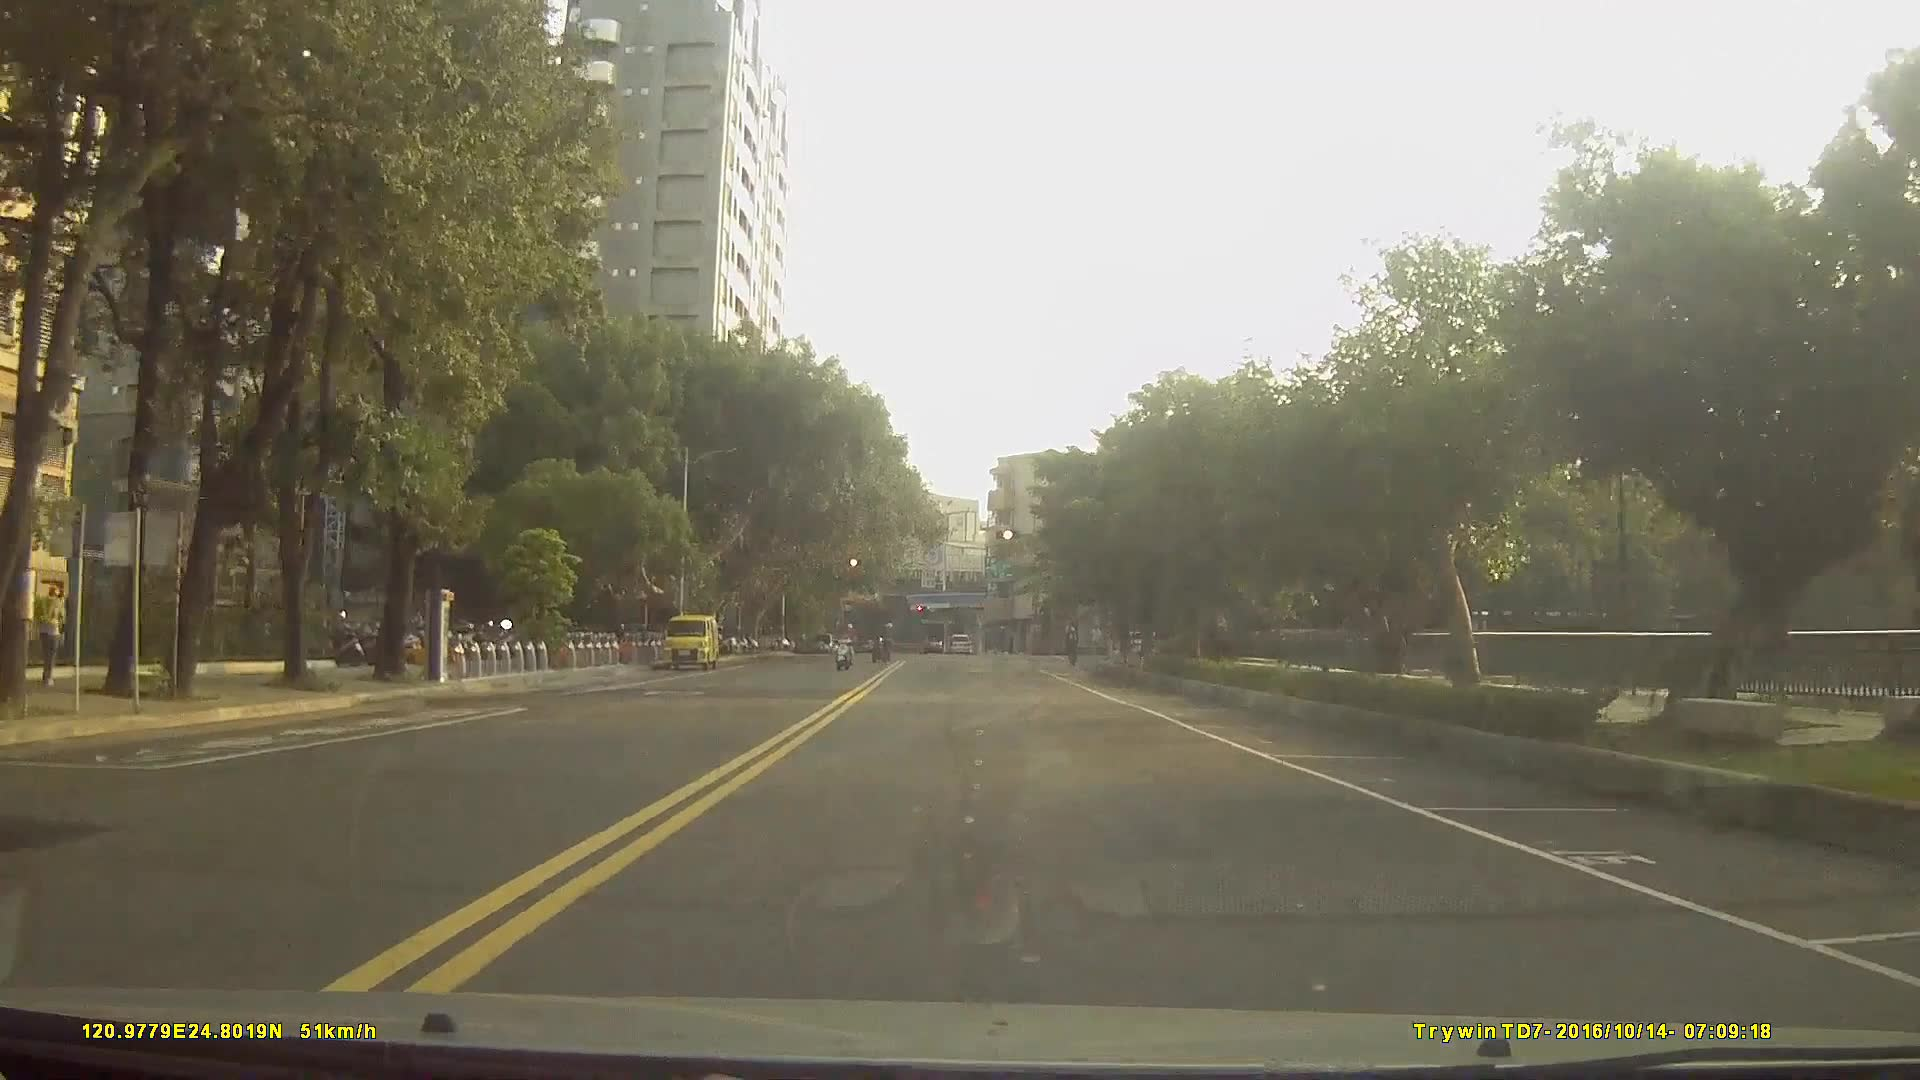pedestrian: (1086, 624, 1106, 659)
rider: (832, 618, 863, 671), (870, 617, 899, 662)
vehicle: (942, 629, 974, 653)
